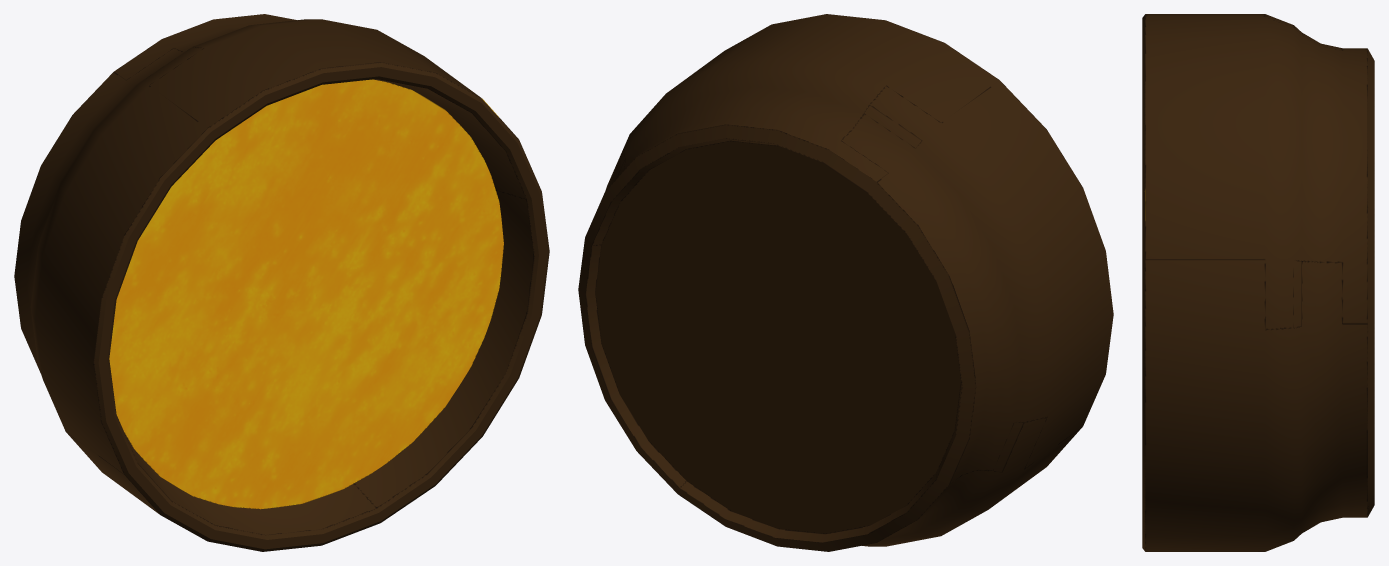
The picture shows the model from 3 angles, left to right: view 1: azimuth 30°, elevation 25°; view 2: azimuth 150°, elevation 25°; view 3: azimuth 270°, elevation 25°; orthographic projection. The views are drawn at different scales.
Visible parts, largest first — view 1: Circle.001_Baked; view 2: Circle.001_Baked; view 3: Circle.001_Baked.
Boxes of the visible parts, x1,y1,x2,y2 form: Circle.001_Baked: (14, 14, 549, 551); Circle.001_Baked: (578, 14, 1113, 551); Circle.001_Baked: (1142, 14, 1374, 551).
Bounding box in the file's own units: 168 × 168 × 72.15.
1 material, 1 textured.
